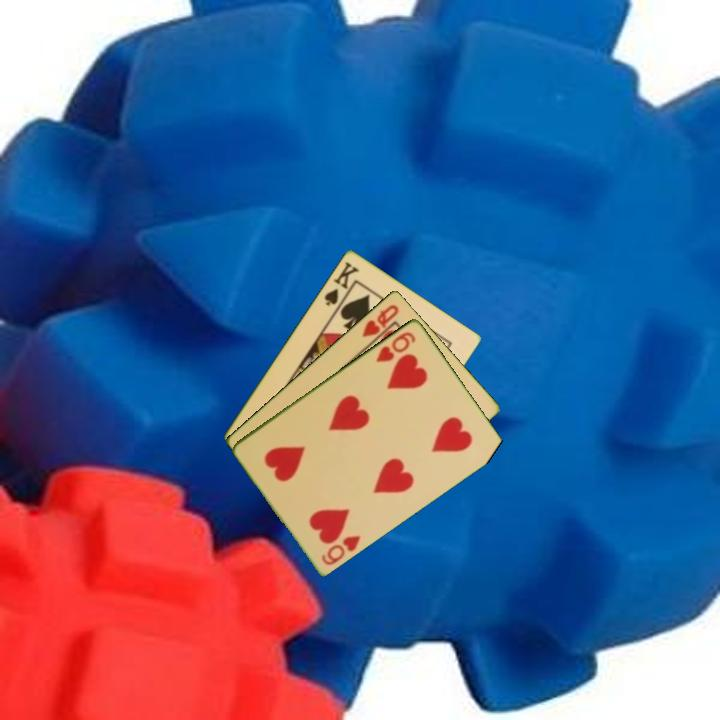6h: (372, 328, 419, 365), (318, 531, 363, 568)
Ks: (320, 258, 362, 312)
Qh: (359, 300, 402, 340)
